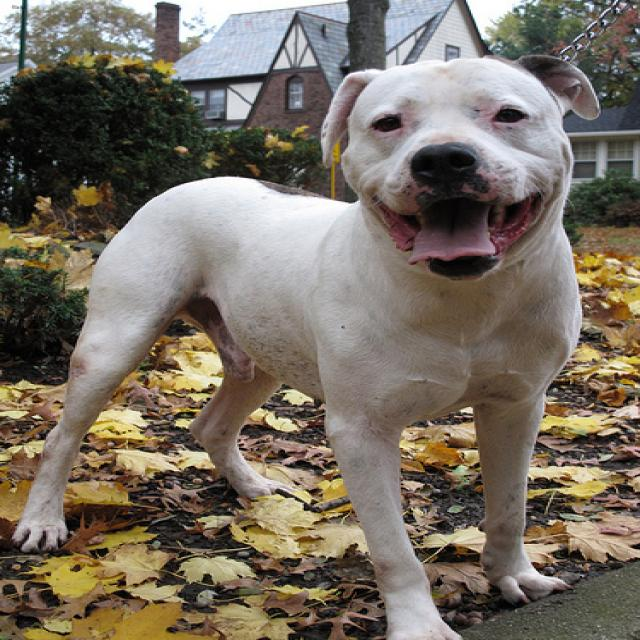dog-american_bulldog: (2, 38, 614, 637)
